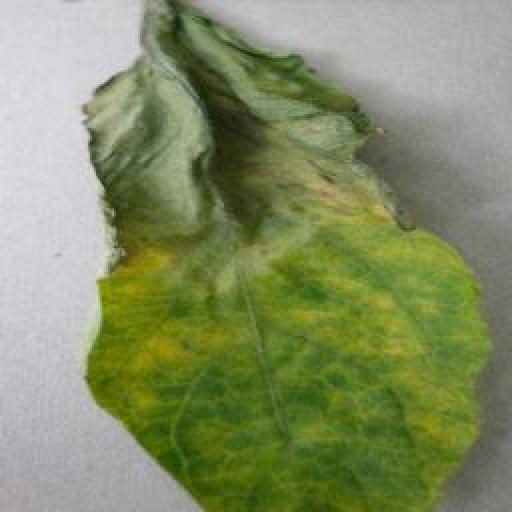disease_tomato: (74, 0, 492, 512)
